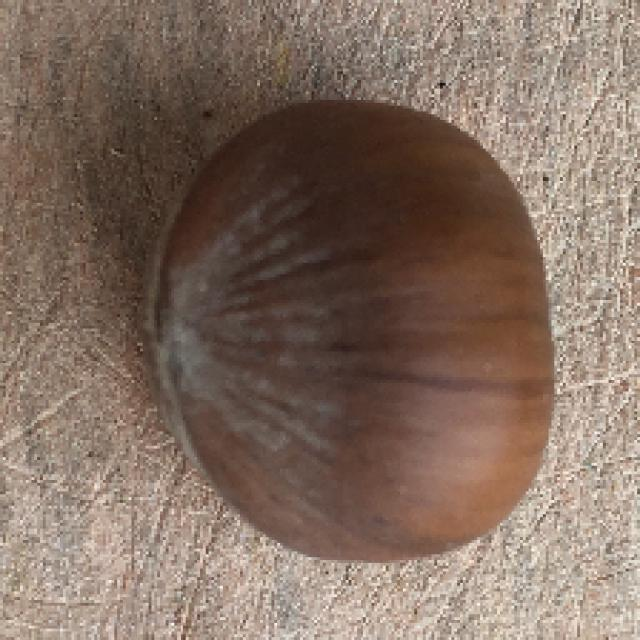qualityHazelnut: (125, 88, 570, 568)
